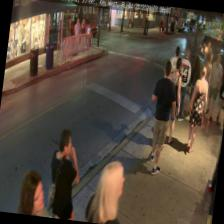person: (142, 56, 181, 174), (183, 63, 211, 152), (160, 56, 186, 145), (170, 46, 192, 120)
